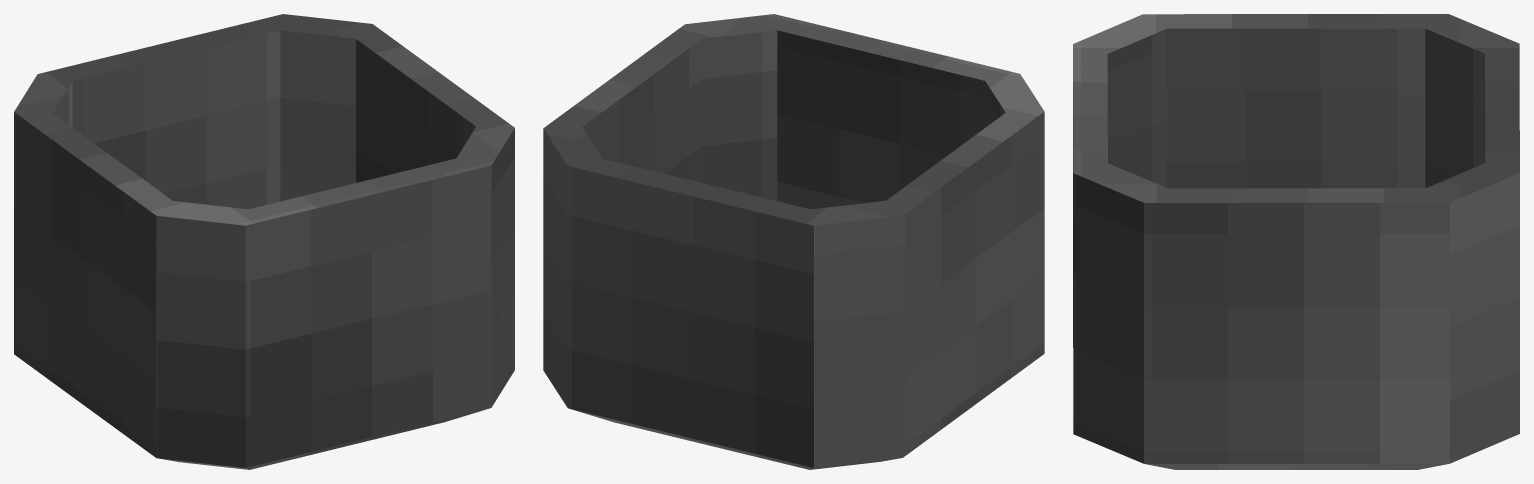
File: cooker.obj
The picture shows the model from 3 angles, left to right: view 1: azimuth 30°, elevation 25°; view 2: azimuth 150°, elevation 25°; view 3: azimuth 270°, elevation 25°; orthographic projection. The views are drawn at different scales.
Visible parts, largest first — view 1: Circle; view 2: Circle; view 3: Circle.
Part boxes in pixels (x1,y1,x2,y2): Circle: [14, 14, 514, 469]; Circle: [543, 14, 1044, 469]; Circle: [1073, 14, 1519, 469].
Bounding box in the file's own units: 0.931 × 0.6585 × 0.931.
